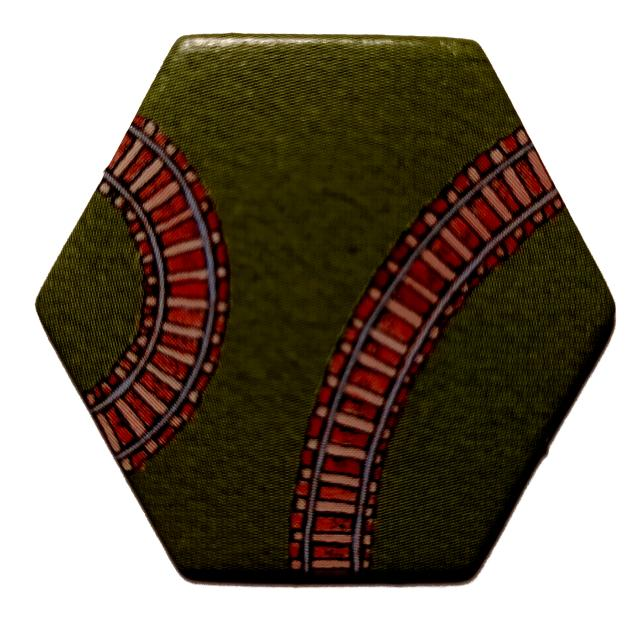15_0: (36, 34, 616, 590)
